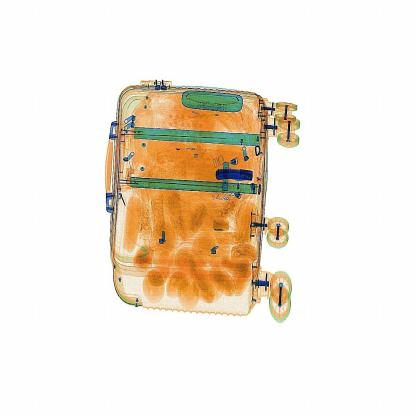knife: (210, 160, 259, 191)
